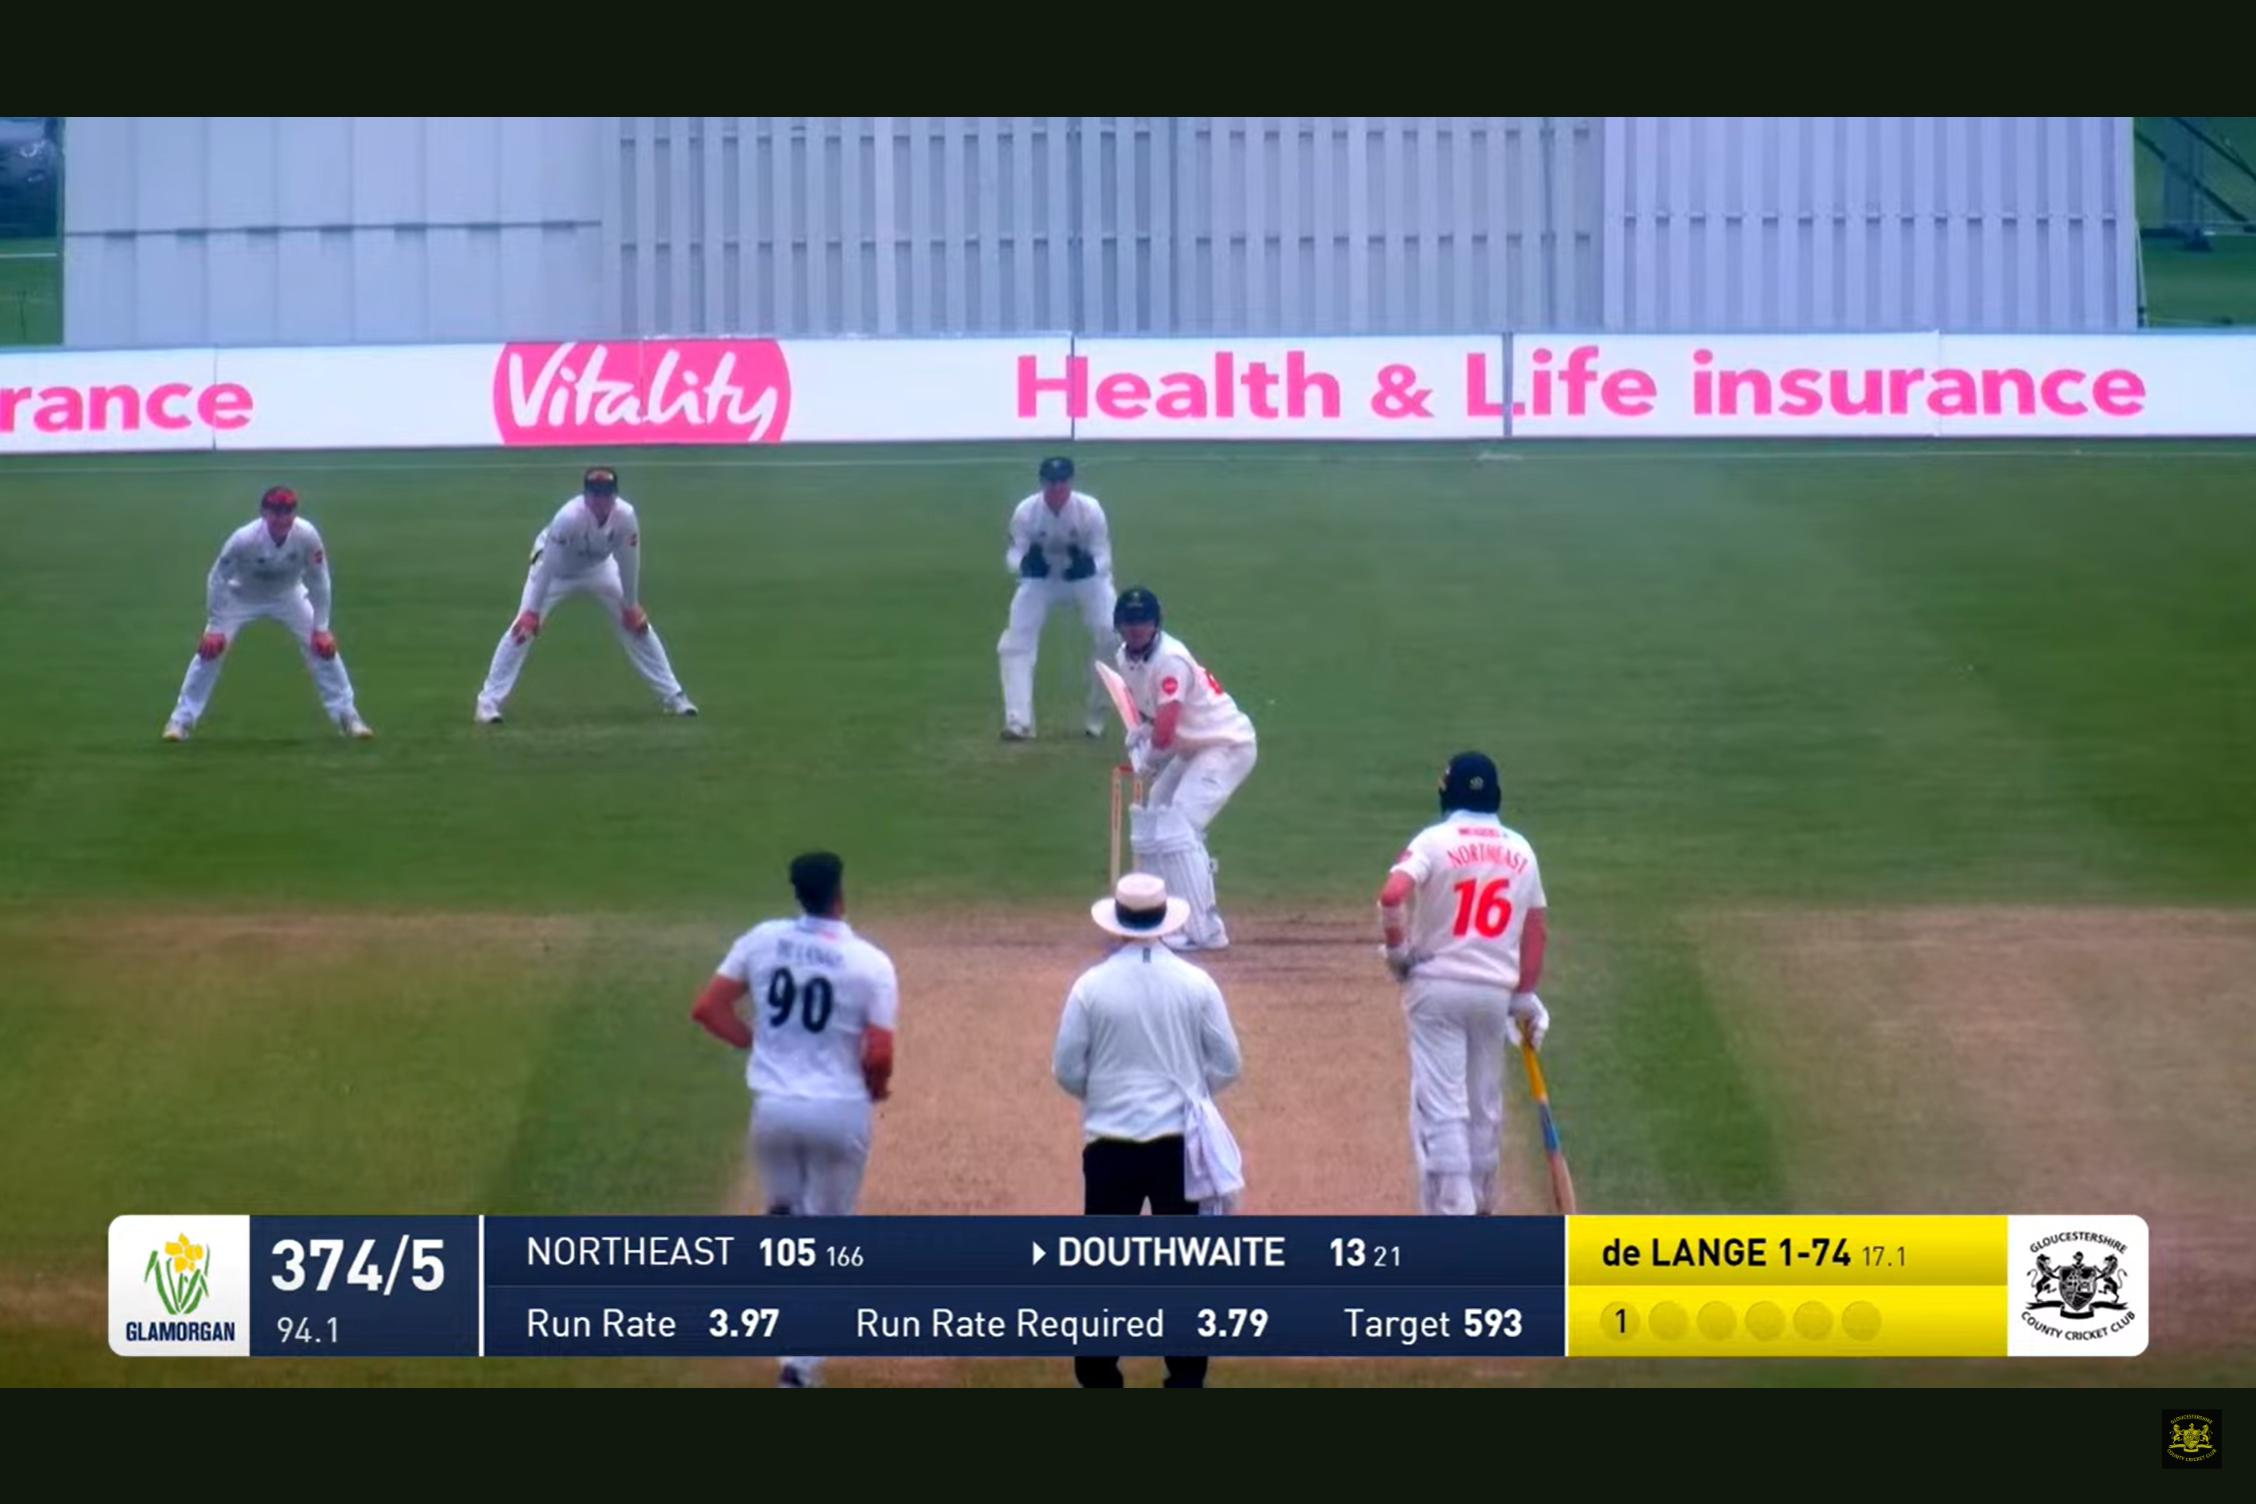batsman: (1061, 576, 1249, 945)
bowler running in: (687, 822, 918, 1209)
non striker: (1361, 723, 1561, 1182)
umpire: (1046, 965, 1251, 1200)
